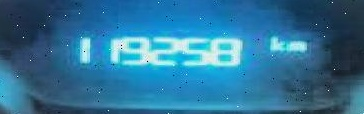1: (64, 35, 93, 64), (100, 35, 120, 65)
2: (147, 35, 178, 66)
5: (178, 35, 207, 66)
8: (209, 36, 240, 66)
9: (120, 35, 146, 65)
X: (264, 35, 282, 51), (284, 38, 306, 51)
